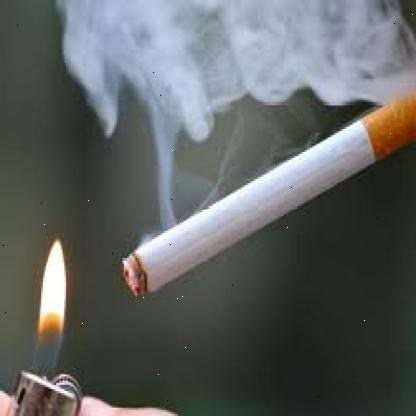fire: (24, 238, 76, 388)
smoke: (46, 0, 413, 238)
